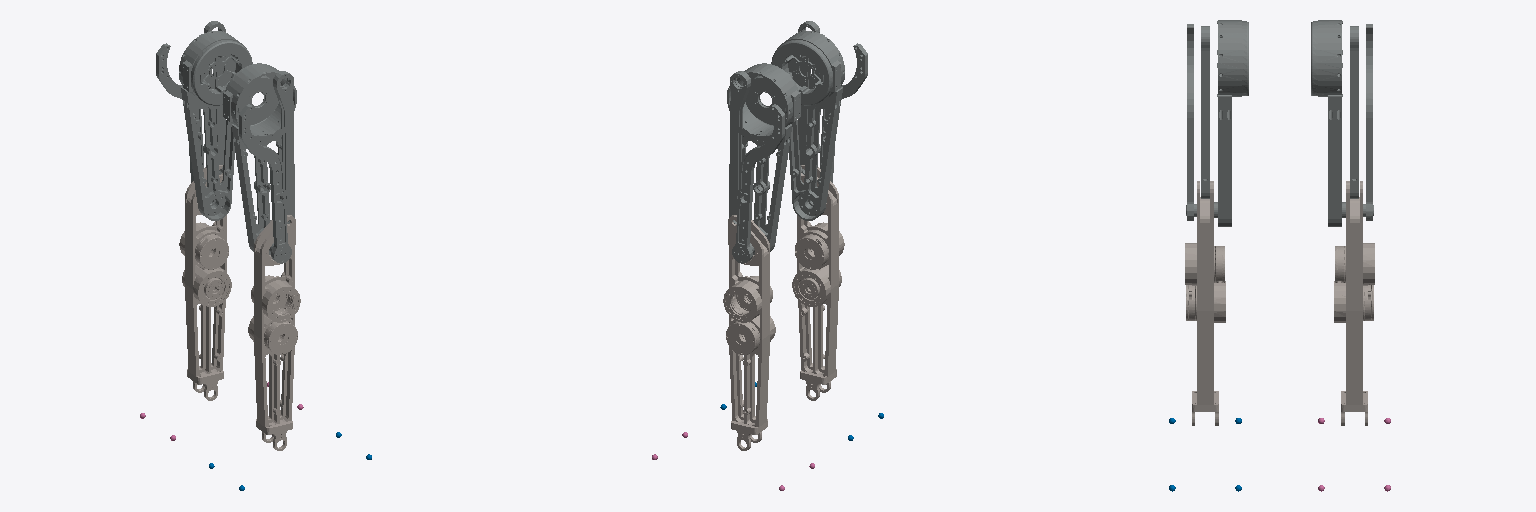
robot.urdf — biped_v3:
<?xml version="1.0" ?>
<!-- =================================================================================== -->
<!-- |    This document was autogenerated by xacro from [local-path]/workspace/kuavo-ros-control/src/humanoid-control/humanoid_interface_drake/models/biped_gen4.0/urdf/biped_v3.xacro | -->
<!-- |    EDITING THIS FILE BY HAND IS NOT RECOMMENDED                                 | -->
<!-- =================================================================================== -->
<robot name="biped_v3" xmlns:drake="https://drake.mit.edu">
  <link name="torso">
    <inertial>
      <origin rpy="0 0 0" xyz="0.00383143 0.0 0.18350901"/>
      <mass value="27.9911395"/>
      <inertia ixx="0.95851611" ixy="0.00026968" ixz="0.06381351" iyy="0.83635568" iyz="0.00069789" izz="0.29474019"/>
    </inertial>
    <visual>
      <origin rpy="0 0 0" xyz="0 0 0"/>
      <geometry>
        <mesh filename="../../meshes/torso.STL"/>
      </geometry>
      <material name="">
        <color rgba="0.43137 0.45098 0.43137 1"/>
      </material>
    </visual>
    <!-- <collision>
      <origin xyz="0 0 0" rpy="0 0 0" />
      <geometry>
        <mesh filename="../../meshes/torso.STL" />
      </geometry>
    </collision> -->
  </link>
  <link name="l_leg_roll">
    <inertial>
      <origin rpy="0 0 0" xyz="0.06614234 -0.00000119 -0.00862806"/>
      <mass value="1.53800733"/>
      <inertia ixx="0.00189451" ixy="-0.00000100" ixz="-0.00010566" iyy="0.00282649" iyz="-0.00000006" izz="0.00366404"/>
    </inertial>
    <visual>
      <origin rpy="0 0 0" xyz="0 0 0"/>
      <geometry>
        <mesh filename="../../meshes/l_leg_roll.STL"/>
      </geometry>
      <material name="">
        <color rgba="0.6902 0.65882 0.63922 1"/>
      </material>
    </visual>
  </link>
  <joint name="l_leg_roll_joint" type="continuous">
    <origin rpy="0 0 0" xyz="-0.139 0.088087 -0.065549"/>
    <parent link="torso"/>
    <child link="l_leg_roll"/>
    <axis xyz="1 0 0"/>
    <limit effort="100" lower="-0.78" upper="1.57" velocity="25"/>
  </joint>
  <!--        ssss -->
  <transmission type="SimpleTransmission">
    <joint name="l_leg_roll_joint"/>
    <actuator name="l_leg_roll_motor"/>
  </transmission>
  <!-- sssssssss -->
  <link name="l_leg_yaw">
    <inertial>
      <origin rpy="0 0 0" xyz="0.00000000 0.04610400 -0.13256100"/>
      <mass value="1.60096700"/>
      <inertia ixx="0.00698359" ixy="0.00000237" ixz="-0.00000315" iyy="0.00460736" iyz="-0.00105143" izz="0.00482586"/>
    </inertial>
    <visual>
      <origin rpy="0 0 0" xyz="0 0 0"/>
      <geometry>
        <mesh filename="../../meshes/l_leg_yaw.STL"/>
      </geometry>
      <material name="">
        <color rgba="0.65098 0.61961 0.58824 1"/>
      </material>
    </visual>
  </link>
  <joint name="l_leg_yaw_joint" type="continuous">
    <origin rpy="0 0 0" xyz="0.1365 -0.0010866 -0.033901"/>
    <parent link="l_leg_roll"/>
    <child link="l_leg_yaw"/>
    <axis xyz="0 0 1"/>
    <limit effort="100" lower="-1.57" upper="1.57" velocity="25"/>
  </joint>
  <!--        ssss -->
  <transmission type="SimpleTransmission">
    <joint name="l_leg_yaw_joint"/>
    <actuator name="l_leg_yaw_motor"/>
  </transmission>
  <!-- sssssssss -->
  <link name="l_leg_pitch">
    <inertial>
      <origin rpy="0 0 0" xyz="-0.00644903 -0.09813560 -0.05357606"/>
      <mass value="2.46657100"/>
      <inertia ixx="0.02261778" ixy="-0.00007906" ixz="-0.00029350" iyy="0.02315672" iyz="-0.00182962" izz="0.00415881"/>
    </inertial>
    <visual>
      <origin rpy="0 0 0" xyz="0 0 0"/>
      <geometry>
        <mesh filename="../../meshes/l_leg_pitch.STL"/>
      </geometry>
      <material name="">
        <color rgba="0.52941 0.54902 0.54902 1"/>
      </material>
    </visual>
  </link>
  <joint name="l_leg_pitch_joint" type="continuous">
    <origin rpy="0 0 0" xyz="0 0.094 -0.09"/>
    <parent link="l_leg_yaw"/>
    <child link="l_leg_pitch"/>
    <axis xyz="0 1 0"/>
    <limit effort="100" lower="-2.35" upper="0.78" velocity="47"/>
  </joint>
  <!--        ssss -->
  <transmission type="SimpleTransmission">
    <joint name="l_leg_pitch_joint"/>
    <actuator name="l_leg_pitch_motor"/>
  </transmission>
  <!-- sssssssss -->
  <link name="l_knee">
    <inertial>
      <origin rpy="0 0 0" xyz="0.00080045 -0.00004225 -0.12049699"/>
      <mass value="1.62911554"/>
      <inertia ixx="0.01343597" ixy="-0.00000234" ixz="0.00020391" iyy="0.01359234" iyz="0.00018311" izz="0.00092149"/>
    </inertial>
    <visual>
      <origin rpy="0 0 0" xyz="0 0 0"/>
      <geometry>
        <mesh filename="../../meshes/l_knee.STL"/>
      </geometry>
      <material name="">
        <color rgba="0.68627 0.65882 0.63922 1"/>
      </material>
    </visual>
  </link>
  <joint name="l_knee_pitch_joint" type="revolute">
    <origin rpy="0 0 0" xyz="0.004136 -0.06635 -0.24997"/>
    <parent link="l_leg_pitch"/>
    <child link="l_knee"/>
    <axis xyz="0 1 0"/>
    <limit effort="100" lower="0.0" upper="2.61" velocity="47"/>
  </joint>
  <!--        ssss -->
  <transmission type="SimpleTransmission">
    <joint name="l_knee_pitch_joint"/>
    <actuator name="l_knee_pitch_motor"/>
  </transmission>
  <!-- sssssssss -->
  <link name="l_foot_pitch">
    <inertial>
      <origin rpy="0 0 0" xyz="0.00000000 -0.02099982 0"/>
      <mass value="0.05444454"/>
      <inertia ixx="0.00000411" ixy="0.00000000" ixz="0.00000000" iyy="0.00000411" iyz="0.00000000" izz="0.00000728"/>
    </inertial>
    <visual>
      <origin rpy="0 0 0" xyz="0 0 0"/>
      <geometry>
        <mesh filename="../../meshes/l_foot_pitch.STL"/>
      </geometry>
      <material name="">
        <color rgba="0.6902 0.65882 0.63922 1"/>
      </material>
    </visual>
  </link>
  <joint name="l_foot_pitch_joint" type="continuous">
    <origin rpy="0 0 0" xyz="0 -0.0022 -0.346"/>
    <parent link="l_knee"/>
    <child link="l_foot_pitch"/>
    <axis xyz="0 1 0"/>
    <limit effort="100" lower="-1.57" upper="1.57" velocity="25"/>
  </joint>
  <transmission type="SimpleTransmission">
    <joint name="l_foot_pitch_joint"/>
    <actuator name="l_foot_pitch_motor"/>
  </transmission>
  <!-- sssssssss -->
  <link name="l_foot_roll">
    <inertial>
      <origin rpy="0 0 0" xyz="-0.03594832 0.00000978 -0.02713029"/>
      <mass value="0.46707519"/>
      <inertia ixx="0.00040711" ixy="0.00000016" ixz="-0.00023147" iyy="0.00127525" iyz="-0.00000006" izz="0.00135360"/>
    </inertial>
    <visual>
      <origin rpy="0 0 0" xyz="0 0 0"/>
      <geometry>
        <mesh filename="../../meshes/l_foot_roll.STL"/>
      </geometry>
      <material name="">
        <color rgba="0.6902 0.65882 0.63922 1"/>
      </material>
    </visual>
    <visual>
      <origin rpy="0 0 0" xyz="-0.09 0.05 -0.0465"/>
      <geometry>
        <sphere radius="0.005"/>
      </geometry>
    </visual>
    <collision>
      <origin rpy="0 0 0" xyz="-0.09 0.05 -0.0465"/>
      <geometry>
        <sphere radius="0.005"/>
      </geometry>
    </collision>
    <visual>
      <origin rpy="0 0 0" xyz="-0.09 -0.05 -0.0465"/>
      <geometry>
        <sphere radius="0.005"/>
      </geometry>
    </visual>
    <collision>
      <origin rpy="0 0 0" xyz="-0.09 -0.05 -0.0465"/>
      <geometry>
        <sphere radius="0.005"/>
      </geometry>
    </collision>
    <visual>
      <origin rpy="0 0 0" xyz="0.15 0.05 -0.0465"/>
      <geometry>
        <sphere radius="0.005"/>
      </geometry>
    </visual>
    <collision>
      <origin rpy="0 0 0" xyz="0.15 0.05 -0.0465"/>
      <geometry>
        <sphere radius="0.005"/>
      </geometry>
    </collision>
    <visual>
      <origin rpy="0 0 0" xyz="0.15 -0.05 -0.0465"/>
      <geometry>
        <sphere radius="0.005"/>
      </geometry>
    </visual>
    <collision>
      <origin rpy="0 0 0" xyz="0.15 -0.05 -0.0465"/>
      <geometry>
        <sphere radius="0.005"/>
      </geometry>
    </collision>
  </link>
  <joint name="l_foot_roll_joint" type="continuous">
    <origin rpy="0 0 0" xyz="0 0 0"/>
    <parent link="l_foot_pitch"/>
    <child link="l_foot_roll"/>
    <axis xyz="1 0 0"/>
    <limit effort="100" lower="-1.39" upper="0.78" velocity="25"/>
  </joint>
  <transmission type="SimpleTransmission">
    <joint name="l_foot_roll_joint"/>
    <actuator name="l_foot_roll_motor"/>
  </transmission>
  <!-- sssssssss -->
  <frame link="l_foot_roll" name="l_foot_sole" xyz="0.03 0.0 -0.0465"/>
  <frame link="l_foot_roll" name="l_foot_toe" xyz="0.15 0.0 -0.0465"/>
  <frame link="l_foot_roll" name="l_foot_heel" xyz="-0.09 0.0 -0.0465"/>
  <link name="r_leg_roll">
    <inertial>
      <origin rpy="0 0 0" xyz="0.06614233 0.00000119 -0.00862806"/>
      <mass value="1.53800714"/>
      <inertia ixx="0.00189451" ixy="0.00000100" ixz="-0.00010566" iyy="0.00282648" iyz="0.00000006" izz="0.00366404"/>
    </inertial>
    <visual>
      <origin rpy="0 0 0" xyz="0 0 0"/>
      <geometry>
        <mesh filename="../../meshes/r_leg_roll.STL"/>
      </geometry>
      <material name="">
        <color rgba="0.6902 0.65882 0.63922 1"/>
      </material>
    </visual>
  </link>
  <joint name="r_leg_roll_joint" type="continuous">
    <origin rpy="0 0 0" xyz="-0.139 -0.088087 -0.065549"/>
    <parent link="torso"/>
    <child link="r_leg_roll"/>
    <axis xyz="1 0 0"/>
    <limit effort="100" lower="-1.57" upper="0.78" velocity="25"/>
  </joint>
  <!--        ssss -->
  <transmission type="SimpleTransmission">
    <joint name="r_leg_roll_joint"/>
    <actuator name="r_leg_roll_motor"/>
  </transmission>
  <!-- sssssssss -->
  <link name="r_leg_yaw">
    <inertial>
      <origin rpy="0 0 0" xyz="0.00004661 -0.04610359 -0.13257364"/>
      <mass value="1.60096695"/>
      <inertia ixx="0.00520439" ixy="-0.00000302" ixz="-0.00000372" iyy="0.00397740" iyz="0.00063198" izz="0.00391648"/>
    </inertial>
    <visual>
      <origin rpy="0 0 0" xyz="0 0 0"/>
      <geometry>
        <mesh filename="../../meshes/r_leg_yaw.STL"/>
      </geometry>
      <material name="">
        <color rgba="0.650980392156863 0.619607843137255 0.588235294117647 1"/>
      </material>
    </visual>
  </link>
  <joint name="r_leg_yaw_joint" type="continuous">
    <origin rpy="0 0 0" xyz="0.1365 0.0010866 -0.033901"/>
    <parent link="r_leg_roll"/>
    <child link="r_leg_yaw"/>
    <axis xyz="0 0 1"/>
    <limit effort="100" lower="-1.57" upper="1.57" velocity="25"/>
  </joint>
  <!--        ssss -->
  <transmission type="SimpleTransmission">
    <joint name="r_leg_yaw_joint"/>
    <actuator name="r_leg_yaw_motor"/>
  </transmission>
  <!-- sssssssss -->
  <link name="r_leg_pitch">
    <inertial>
      <origin rpy="0 0 0" xyz="-0.00644903 0.09813560 -0.05357606"/>
      <mass value="2.46657141"/>
      <inertia ixx="0.02254838" ixy="0.00023457" ixz="0.00013808" iyy="0.02319666" iyz="0.00259984" izz="0.00432904"/>
    </inertial>
    <visual>
      <origin rpy="0 0 0" xyz="0 0 0"/>
      <geometry>
        <mesh filename="../../meshes/r_leg_pitch.STL"/>
      </geometry>
      <material name="">
        <color rgba="0.529411764705882 0.549019607843137 0.549019607843137 1"/>
      </material>
    </visual>
  </link>
  <joint name="r_leg_pitch_joint" type="continuous">
    <origin rpy="0 0 0" xyz="0 -0.094 -0.09"/>
    <parent link="r_leg_yaw"/>
    <child link="r_leg_pitch"/>
    <axis xyz="0 1 0"/>
    <limit effort="100" lower="-2.35" upper="0.78" velocity="47"/>
  </joint>
  <!--        ssss -->
  <transmission type="SimpleTransmission">
    <joint name="r_leg_pitch_joint"/>
    <actuator name="r_leg_pitch_motor"/>
  </transmission>
  <!-- sssssssss -->
  <link name="r_knee">
    <inertial>
      <origin rpy="0 0 0" xyz="0.00080045 0.00004225 -0.12049699"/>
      <mass value="1.62911540"/>
      <inertia ixx="0.01343597" ixy="0.00000234" ixz="0.00020391" iyy="0.01359234" iyz="-0.00018311" izz="0.00092149"/>
    </inertial>
    <visual>
      <origin rpy="0 0 0" xyz="0 0 0"/>
      <geometry>
        <mesh filename="../../meshes/r_knee.STL"/>
      </geometry>
      <material name="">
        <color rgba="0.686274509803922 0.658823529411765 0.63921568627451 1"/>
      </material>
    </visual>
  </link>
  <joint name="r_knee_pitch_joint" type="revolute">
    <origin rpy="0 0 0" xyz="0.004136 0.06635 -0.24997"/>
    <parent link="r_leg_pitch"/>
    <child link="r_knee"/>
    <axis xyz="0 1 0"/>
    <limit effort="100" lower="0.0" upper="2.61" velocity="47"/>
  </joint>
  <!--        ssss -->
  <transmission type="SimpleTransmission">
    <joint name="r_knee_pitch_joint"/>
    <actuator name="r_knee_pitch_motor"/>
  </transmission>
  <!-- sssssssss -->
  <link name="r_foot_pitch">
    <inertial>
      <origin rpy="0 0 0" xyz="0 0.02100018 0"/>
      <mass value="0.05444454"/>
      <inertia ixx="0.00000411" ixy="0" ixz="0" iyy="0.00000411" iyz="0" izz="0.00000728"/>
    </inertial>
    <visual>
      <origin rpy="0 0 0" xyz="0 0 0"/>
      <geometry>
        <mesh filename="../../meshes/r_foot_pitch.STL"/>
      </geometry>
      <material name="">
        <color rgba="0.690196078431373 0.658823529411765 0.63921568627451 1"/>
      </material>
    </visual>
  </link>
  <joint name="r_foot_pitch_joint" type="continuous">
    <origin rpy="0 0 0" xyz="0 0.0022 -0.346"/>
    <parent link="r_knee"/>
    <child link="r_foot_pitch"/>
    <axis xyz="0 1 0"/>
    <limit effort="100" lower="-1.57" upper="1.57" velocity="25"/>
  </joint>
  <!--        ssss -->
  <transmission type="SimpleTransmission">
    <joint name="r_foot_pitch_joint"/>
    <actuator name="r_foot_pitch_motor"/>
  </transmission>
  <!-- sssssssss -->
  <link name="r_foot_roll">
    <inertial>
      <origin rpy="0 0 0" xyz="-0.03594837 -0.00000972 -0.02713025"/>
      <mass value="0.46707428"/>
      <inertia ixx="0.00040710" ixy="-0.00000016" ixz="-0.00023147" iyy="0.00127525" iyz="0.00000006" izz="0.00135359"/>
    </inertial>
    <visual>
      <origin rpy="0 0 0" xyz="0 0 0"/>
      <geometry>
        <mesh filename="../../meshes/r_foot_roll.STL"/>
      </geometry>
      <material name="">
        <color rgba="0.690196078431373 0.658823529411765 0.63921568627451 1"/>
      </material>
    </visual>
    <visual>
      <origin rpy="0 0 0" xyz="-0.09 0.05 -0.0465"/>
      <geometry>
        <sphere radius="0.005"/>
      </geometry>
    </visual>
    <collision>
      <origin rpy="0 0 0" xyz="-0.09 0.05 -0.0465"/>
      <geometry>
        <sphere radius="0.005"/>
      </geometry>
    </collision>
    <visual>
      <origin rpy="0 0 0" xyz="-0.09 -0.05 -0.0465"/>
      <geometry>
        <sphere radius="0.005"/>
      </geometry>
    </visual>
    <collision>
      <origin rpy="0 0 0" xyz="-0.09 -0.05 -0.0465"/>
      <geometry>
        <sphere radius="0.005"/>
      </geometry>
    </collision>
    <visual>
      <origin rpy="0 0 0" xyz="0.15 0.05 -0.0465"/>
      <geometry>
        <sphere radius="0.005"/>
      </geometry>
    </visual>
    <collision>
      <origin rpy="0 0 0" xyz="0.15 0.05 -0.0465"/>
      <geometry>
        <sphere radius="0.005"/>
      </geometry>
    </collision>
    <visual>
      <origin rpy="0 0 0" xyz="0.15 -0.05 -0.0465"/>
      <geometry>
        <sphere radius="0.005"/>
      </geometry>
    </visual>
    <collision>
      <origin rpy="0 0 0" xyz="0.15 -0.05 -0.0465"/>
      <geometry>
        <sphere radius="0.005"/>
      </geometry>
    </collision>
  </link>
  <joint name="r_foot_roll_joint" type="continuous">
    <origin rpy="0 0 0" xyz="0 0 0"/>
    <parent link="r_foot_pitch"/>
    <child link="r_foot_roll"/>
    <axis xyz="1 0 0"/>
    <limit effort="100" lower="-1.39" upper="0.78" velocity="25"/>
  </joint>
  <!--        ssss -->
  <transmission type="SimpleTransmission">
    <joint name="r_foot_roll_joint"/>
    <actuator name="r_foot_roll_motor"/>
  </transmission>
  <!-- sssssssss -->
  <frame link="r_foot_roll" name="r_foot_sole" xyz="0.03 -0.0 -0.0465"/>
  <frame link="r_foot_roll" name="r_foot_toe" xyz="0.15 -0.0 -0.0465"/>
  <frame link="r_foot_roll" name="r_foot_heel" xyz="-0.09 -0.0 -0.0465"/>
</robot>

--- What the picture shows (computed from the rendered views, not written in the file) ---
The picture shows the robot from 3 angles, left to right: view 1: azimuth 30°, elevation 25°; view 2: azimuth 150°, elevation 25°; view 3: azimuth 270°, elevation 25°; orthographic projection.
Robot: biped_v3 — 13 links, 12 joints (2 revolute, 10 continuous); root link torso; default pose: every joint at zero.
Visible links, largest first — view 1: r_leg_pitch, l_leg_pitch, r_knee, l_knee; view 2: l_leg_pitch, r_leg_pitch, l_knee, r_knee; view 3: l_leg_pitch, r_leg_pitch, l_knee, r_knee.
Boxes of the visible links, box(x1,y1,x2,y2) form: r_leg_pitch: box(223, 63, 296, 263); l_leg_pitch: box(156, 21, 252, 220); r_knee: box(248, 215, 300, 450); l_knee: box(179, 165, 231, 400); l_leg_pitch: box(727, 63, 800, 263); r_leg_pitch: box(771, 21, 867, 220); l_knee: box(723, 215, 775, 450); r_knee: box(792, 165, 844, 400); l_leg_pitch: box(1311, 20, 1373, 226); r_leg_pitch: box(1186, 20, 1248, 226); l_knee: box(1334, 181, 1374, 425); r_knee: box(1185, 181, 1225, 425).
Size in the robot's own frame: 0.25 by 0.3349 by 0.7098 metres.
Meshes: 13 distinct files referenced, 4 mesh visuals loaded (4 binary STL); not drawn: 9 (reference not matched to a file when rendering).